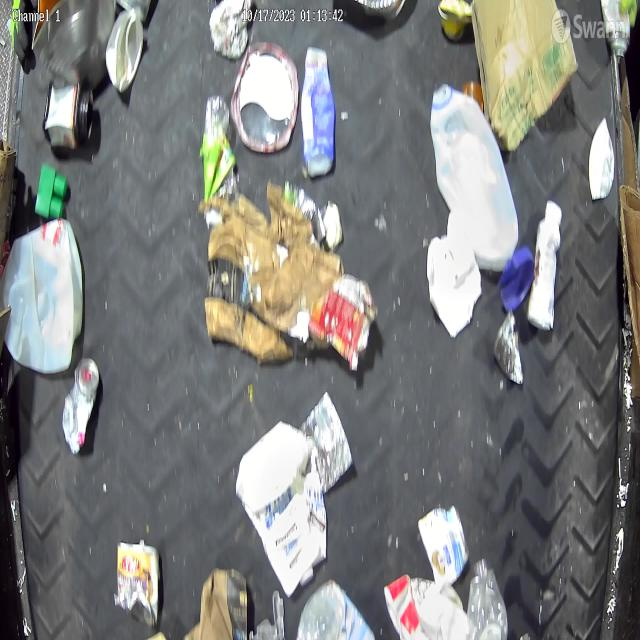milk-jug: (430, 74, 520, 270), (3, 218, 85, 372)
